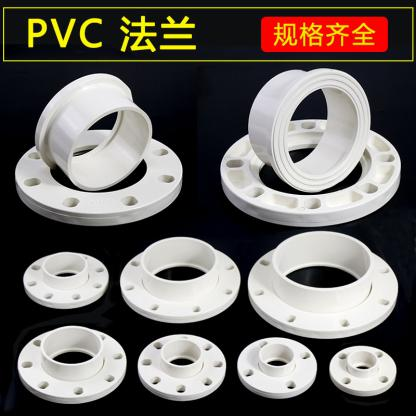FOD: (246, 227, 400, 341), (119, 232, 241, 324), (13, 328, 128, 407), (135, 334, 228, 400), (22, 249, 110, 312), (238, 334, 318, 398), (326, 343, 404, 397)
